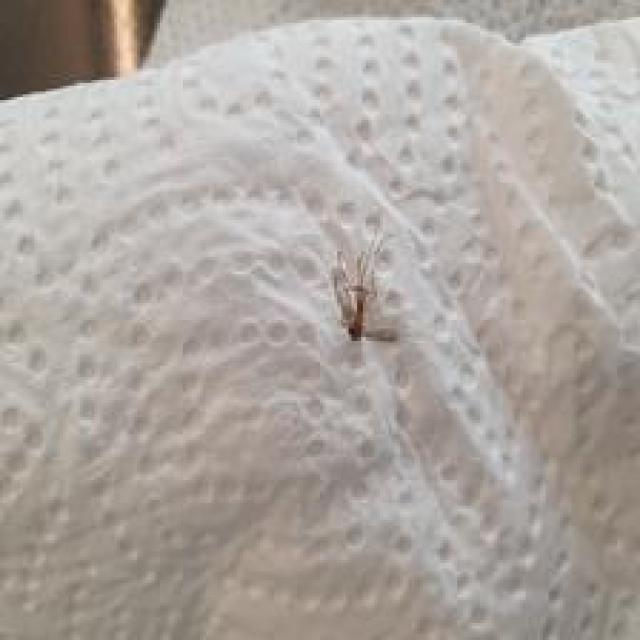Culex: (329, 228, 394, 343)
